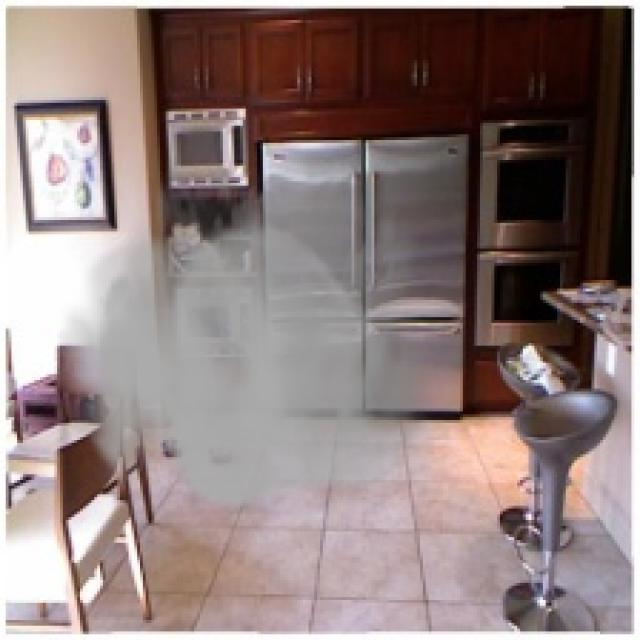smoke: (57, 120, 446, 514)
